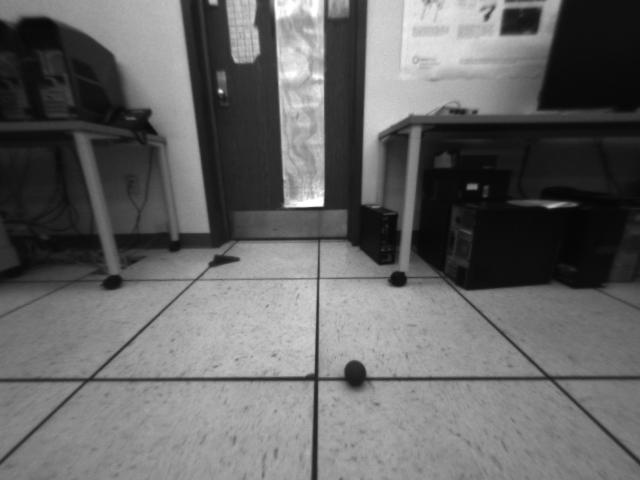dogtoy: (336, 357, 372, 389)
